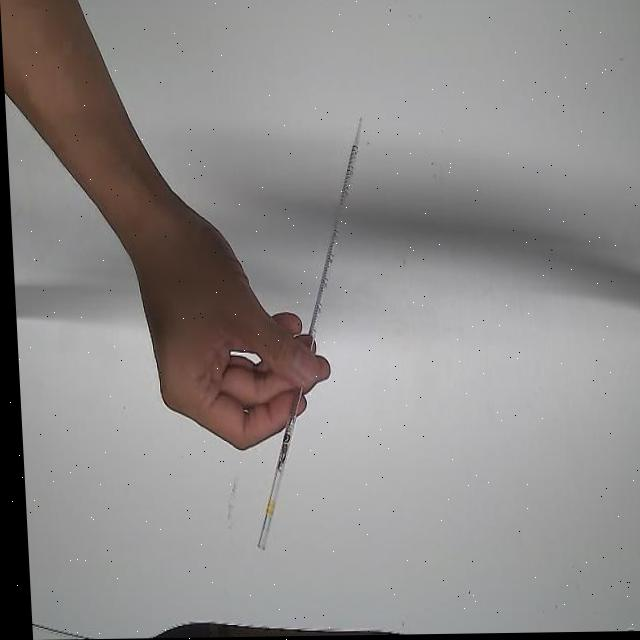Serelogical Pipet 1 mL: (229, 113, 385, 557)
